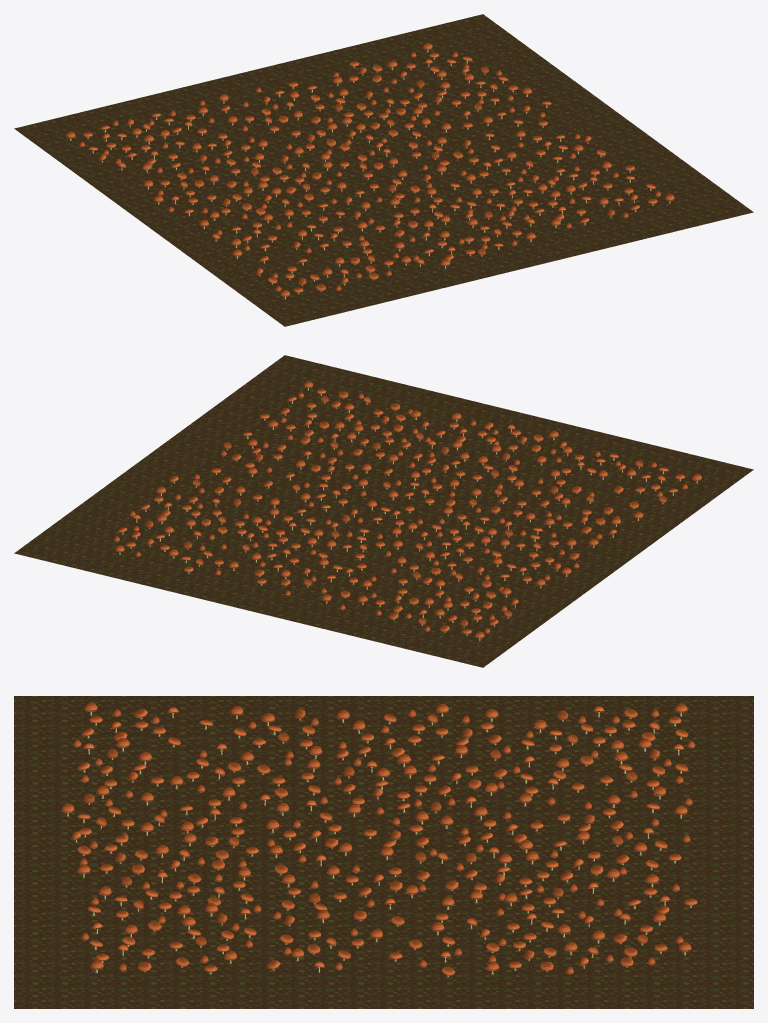
The model's file is mushroom_field.fbx.
3 renders of one model, top to bottom at view 1: azimuth 30°, elevation 25°; view 2: azimuth 150°, elevation 25°; view 3: azimuth 270°, elevation 25°, orthographic. The views are drawn at different scales.
Parts seen in each view (by area): view 1: pPlane291, pCube236; view 2: pPlane291, pCube236; view 3: pPlane291, pCube236.
Part boxes in pixels (bbox=[...]): pPlane291: bbox=[14, 14, 753, 326]; pCube236: bbox=[65, 42, 674, 299]; pPlane291: bbox=[14, 355, 753, 667]; pCube236: bbox=[114, 381, 701, 641]; pPlane291: bbox=[14, 696, 753, 1008]; pCube236: bbox=[61, 702, 697, 976].
Size of the model in its own units: 60.54 by 1.16 by 60.55.
2 materials, 2 textured.
